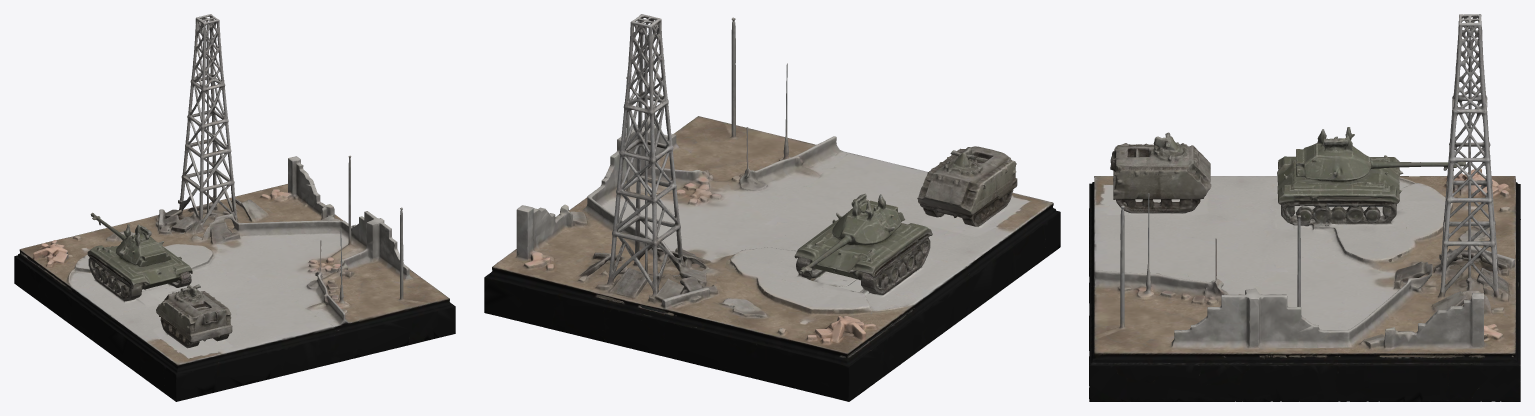
The model's file is tong_tien_cong_mau_than.glb.
The picture shows the model from 3 angles, left to right: view 1: azimuth 30°, elevation 25°; view 2: azimuth 150°, elevation 25°; view 3: azimuth 270°, elevation 25°; orthographic projection. The views are drawn at different scales.
Size of the model in its own units: 1.86 by 1.5 by 1.87.
Materials: 1 (1 with a texture image).
